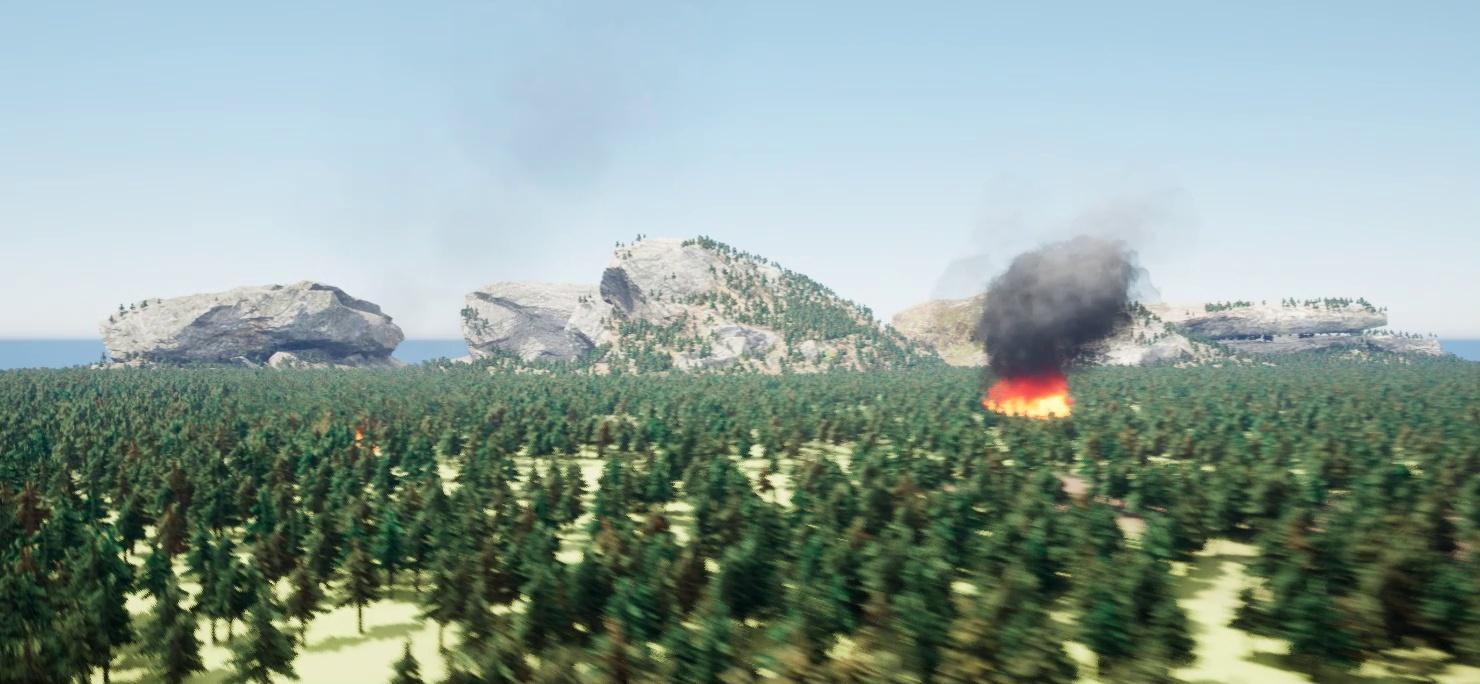fire: (974, 373, 1069, 416)
smoke: (964, 231, 1144, 367)
